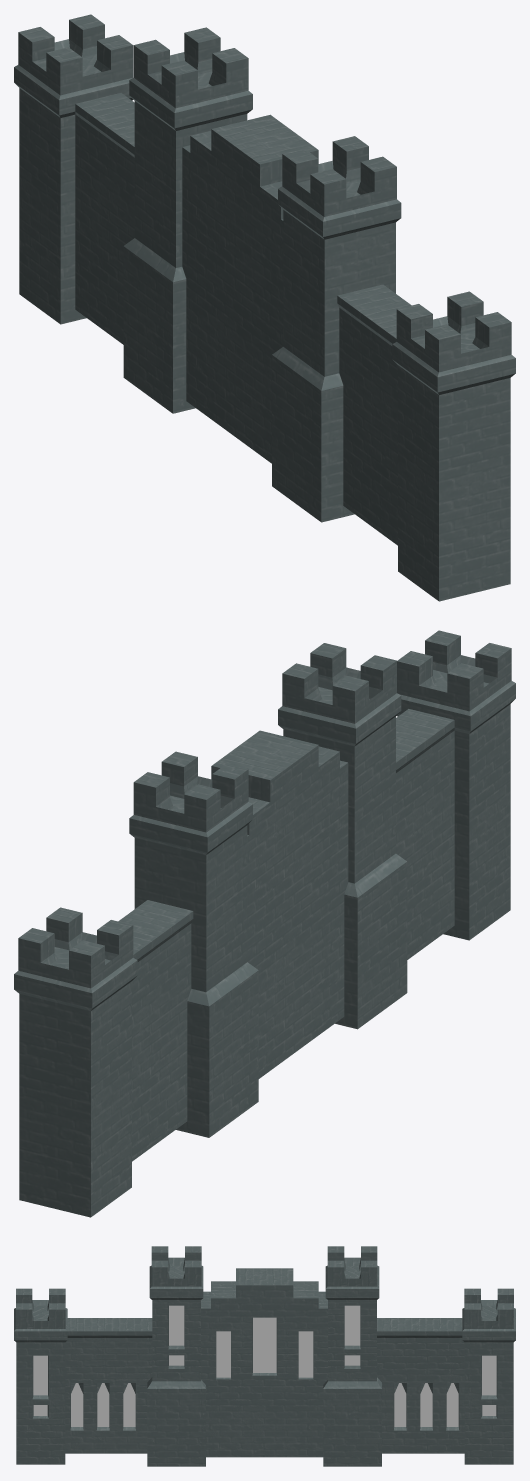
The model's file is zamok.fbx.
3 views of the same model, one above another, from view 1: azimuth 30°, elevation 25°; view 2: azimuth 150°, elevation 25°; view 3: azimuth 270°, elevation 25° (orthographic). The views are drawn at different scales.
Parts seen in each view (by area): view 1: Cube.001; view 2: Cube.001; view 3: Cube.001, Cube.
Part boxes in pixels (x1,y1,x2,y2): Cube.001: [14, 14, 515, 601]; Cube.001: [14, 630, 515, 1217]; Cube.001: [14, 1246, 515, 1466]; Cube: [33, 1305, 496, 1426].
Bounding box in the file's own units: 57.6 × 493 × 214.
